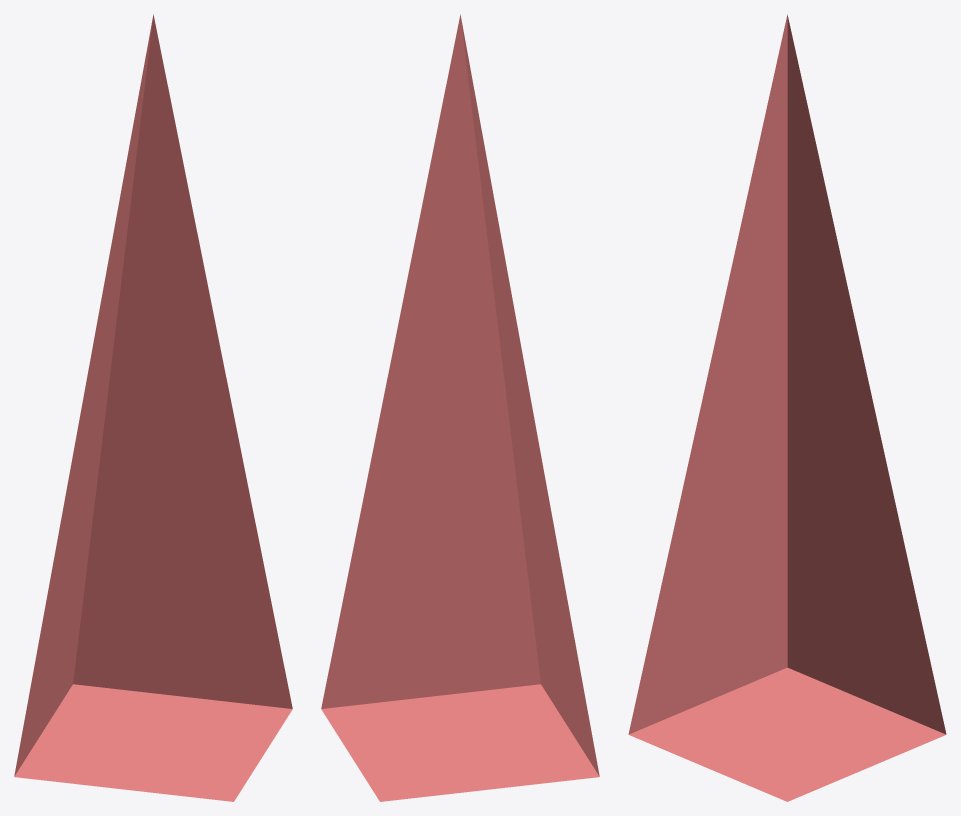
Rendered from tokyo-tower.glb.
The picture shows the model from 3 angles, left to right: view 1: azimuth 30°, elevation 25°; view 2: azimuth 150°, elevation 25°; view 3: azimuth 270°, elevation 25°; orthographic projection.
Parts seen in each view (by area): view 1: tokyo-tower; view 2: tokyo-tower; view 3: tokyo-tower.
Boxes of the visible parts, x1,y1,x2,y2 form: tokyo-tower: [14, 14, 292, 801]; tokyo-tower: [321, 14, 599, 801]; tokyo-tower: [628, 14, 946, 801].
Bounding box in the file's own units: 0.8 × 2 × 0.8.
